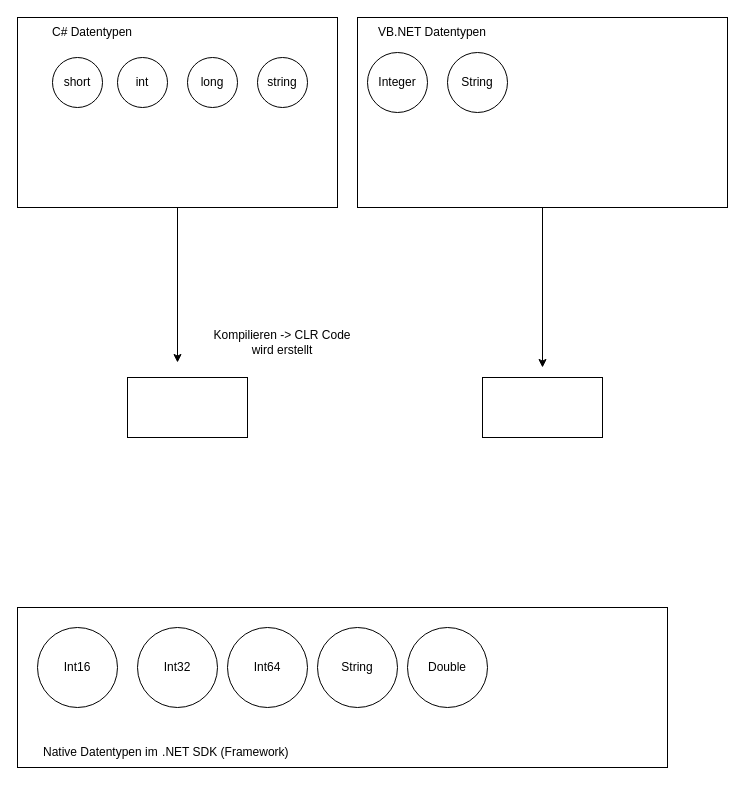
The diagram is 745 pixels wide and 785 high, and some of its shapes have lost their labels. Each missing label, with the box of its shape:
Integer->Int32 String -> String: (482, 376, 602, 438)
short->Int16 int->Int32: (126, 376, 248, 438)
